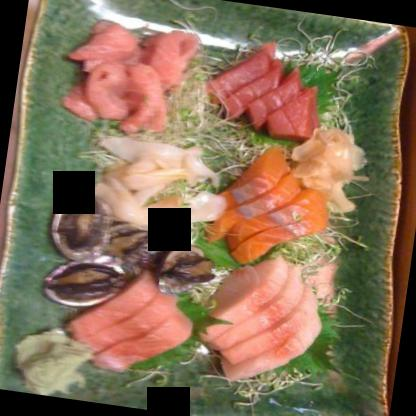tuna: (206, 147, 324, 270)
